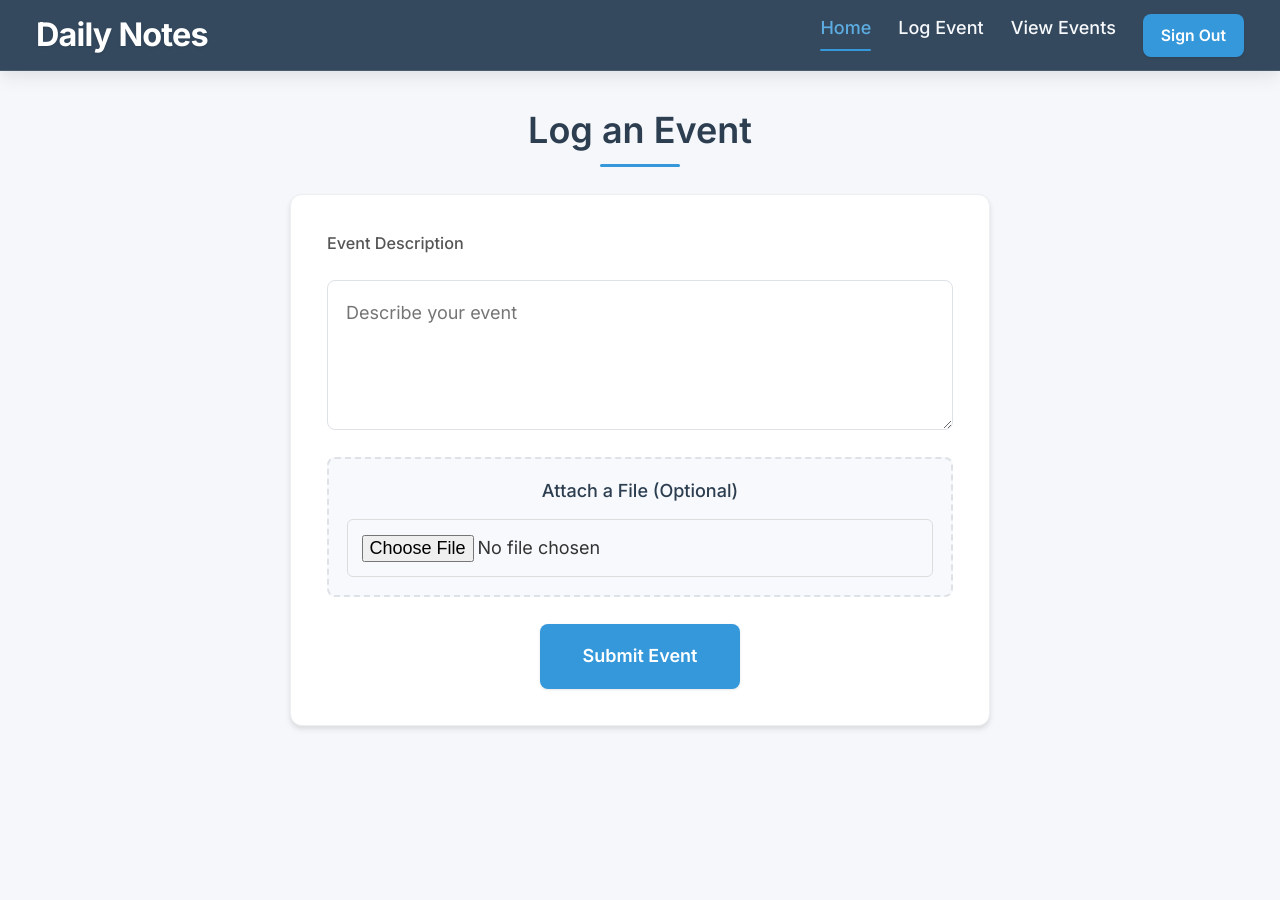
Test case: shows error message on failed submit
The image size is (1280, 900).
Step 1. Type "Test event" into the text box with placeholder "Describe your event" → x=640, y=355, box [327, 280, 953, 430]
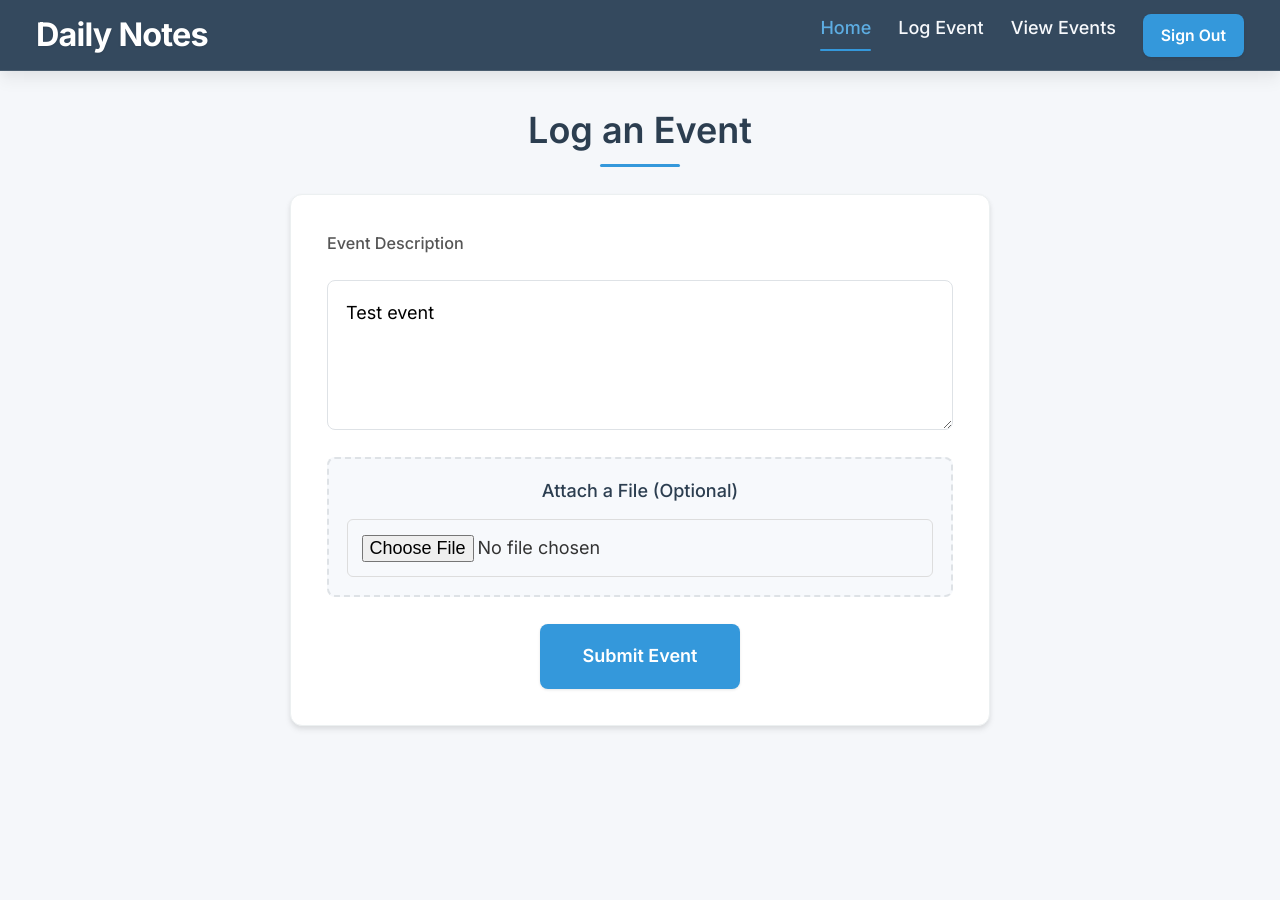
Step 2. Click the button "Submit Event" → x=640, y=656, box [540, 624, 740, 689]
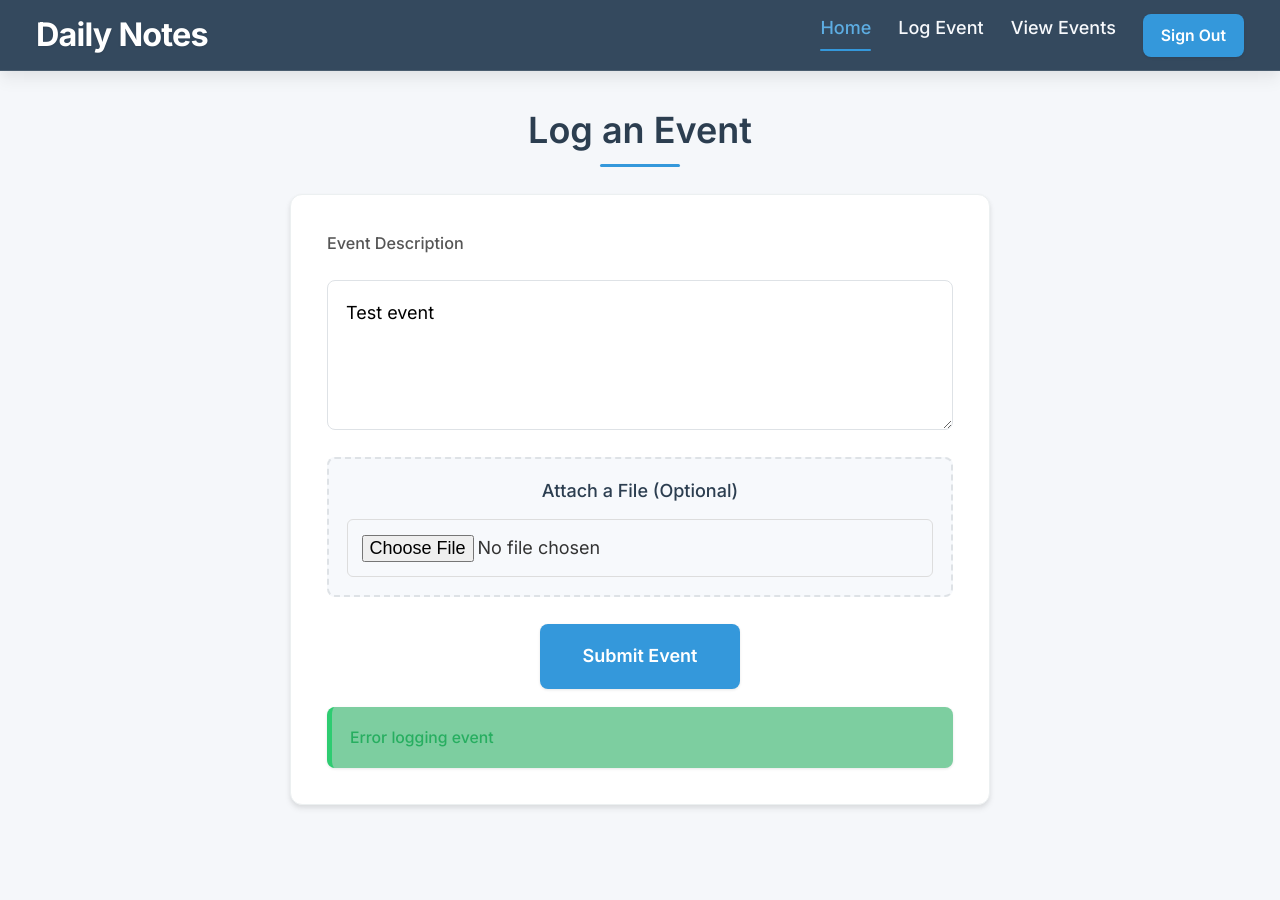
Expected: the text "Error logging event" is shown, [327, 707, 953, 768]
